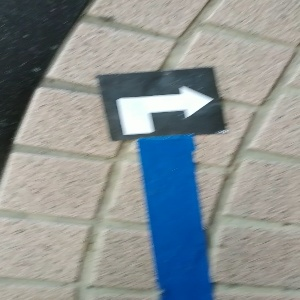right: (99, 68, 225, 139)
